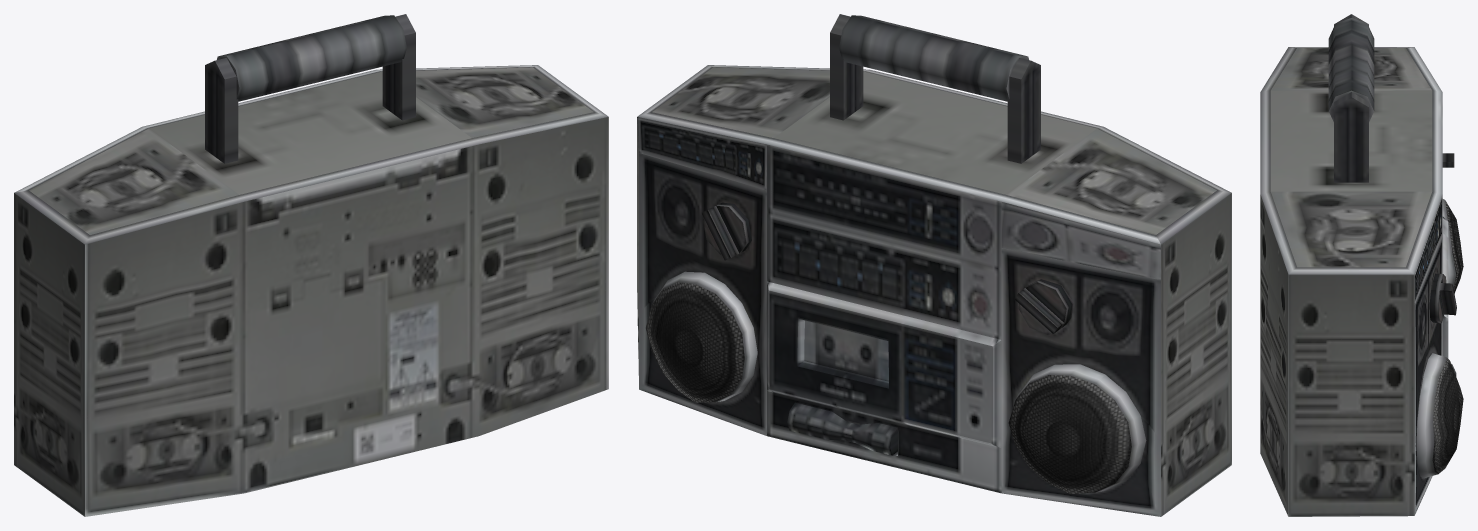
Rendered from radio.fbx.
The picture shows the model from 3 angles, left to right: view 1: azimuth 30°, elevation 25°; view 2: azimuth 150°, elevation 25°; view 3: azimuth 270°, elevation 25°; orthographic projection. The views are drawn at different scales.
Visible parts, largest first — view 1: Cube.046; view 2: Cube.046; view 3: Cube.046.
Boxes of the visible parts, <box> form: Cube.046: <box>14,14,608,516</box>; Cube.046: <box>637,14,1231,516</box>; Cube.046: <box>1260,14,1463,516</box>.
Size of the model in its own units: 114 by 81.15 by 42.87.
1 material, 1 textured.
